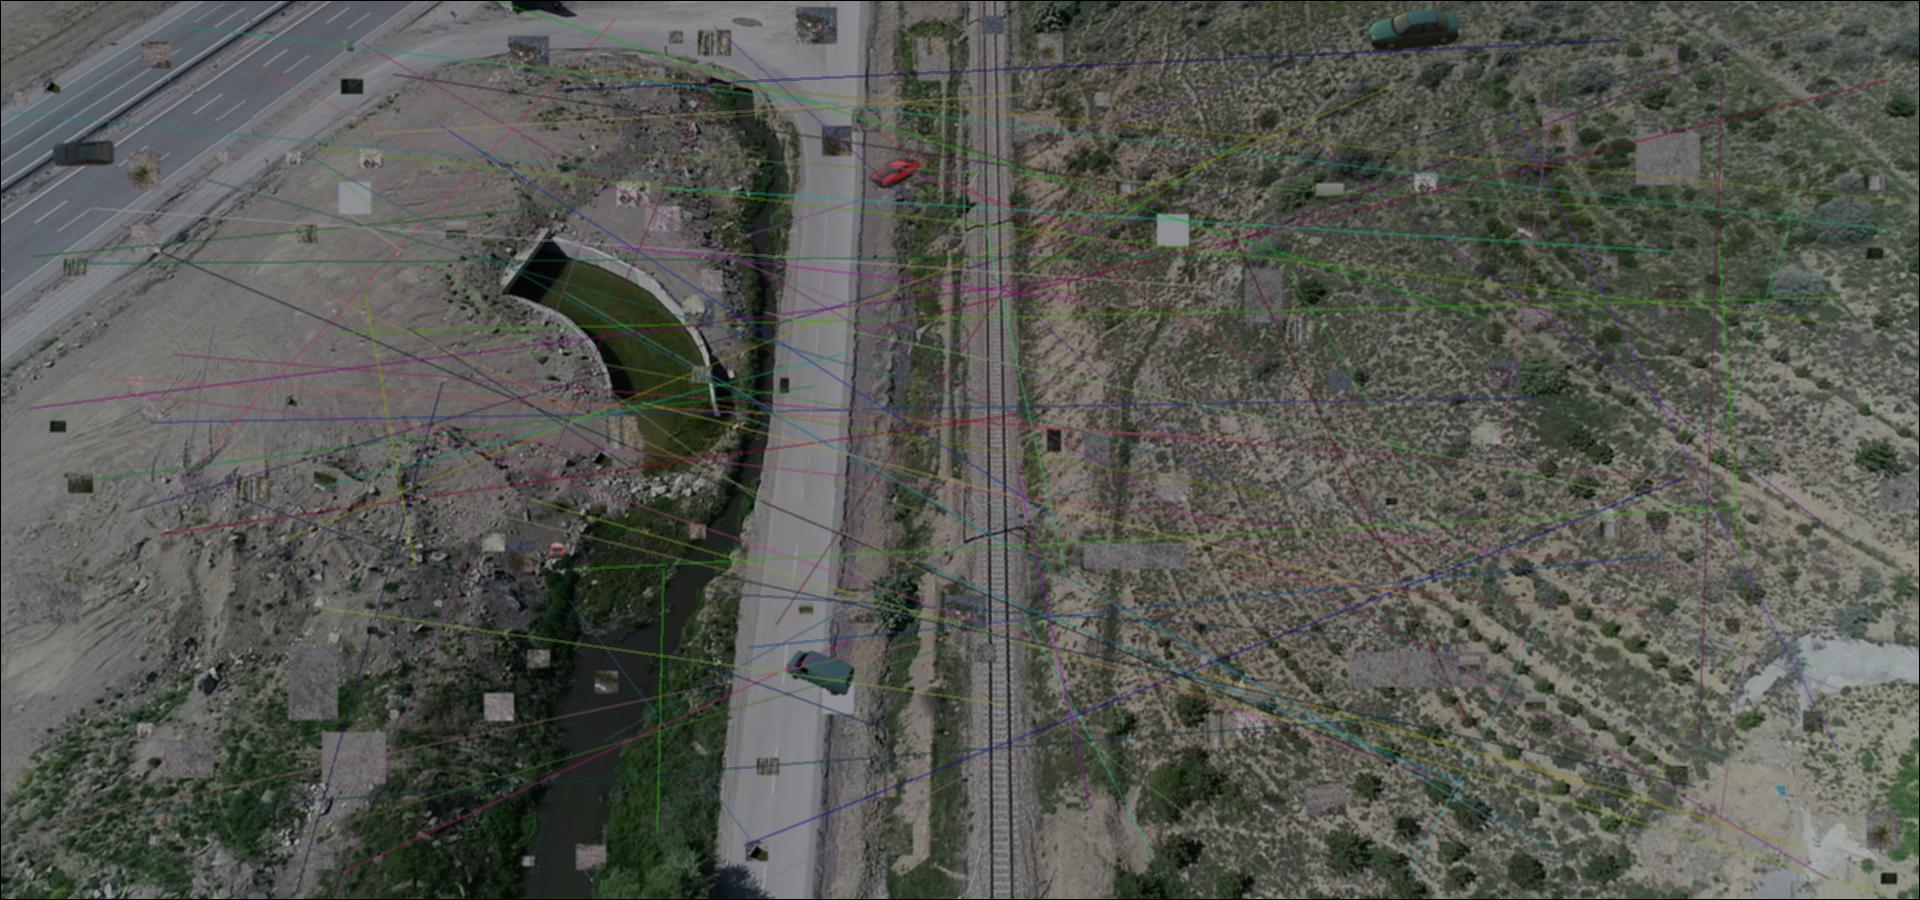arac: (1367, 10, 1460, 50), (787, 650, 855, 696), (51, 140, 118, 169), (868, 158, 922, 189), (549, 542, 564, 558)
